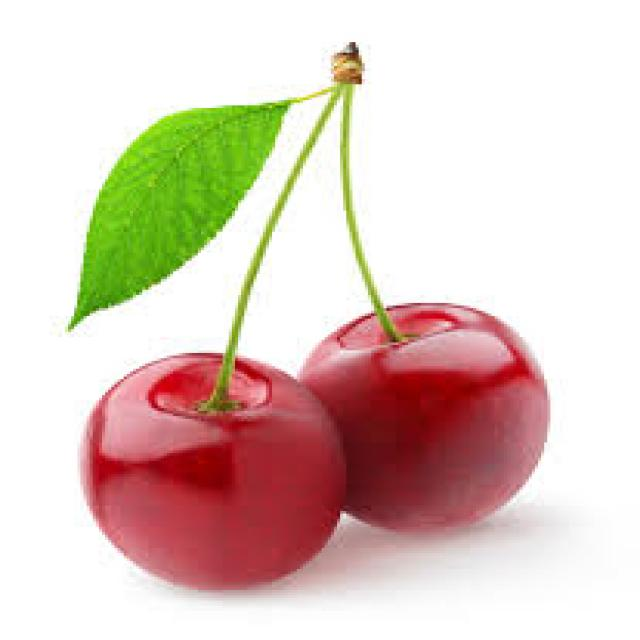Organik: (76, 47, 553, 567)
